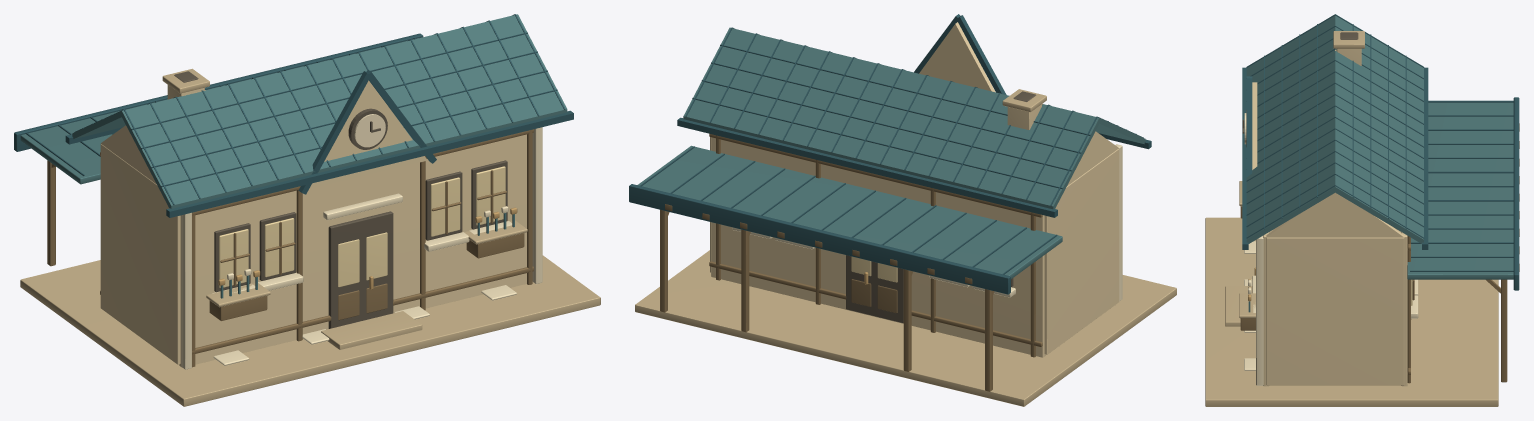
The model's file is station.glb.
3 renders of one model, left to right at view 1: azimuth 30°, elevation 25°; view 2: azimuth 150°, elevation 25°; view 3: azimuth 270°, elevation 25°, orthographic. The views are drawn at different scales.
Visible parts, largest first — view 1: Roof_sheet, Wall_Cardstock, Foundation, End_wall, Door_frame, Eave_cut_edge, Canopy_sheet, Clock_gable, Entry_step, Canopy_fascia, Timber_cross, Facade_corner_trim (+35 smaller); view 2: Roof_sheet.001, Foundation, Canopy_sheet, Wall_Cardstock.001, End_wall, Canopy_fascia, Eave_cut_edge.001, Clock_gable, Door_frame.001, Timber_cross.002, Timber_cross.003, End_gable (+16 smaller); view 3: Foundation, End_wall.001, Canopy_sheet, Roof_sheet.001, Roof_sheet, End_gable.001, Canopy_fascia, Facade_corner_trim.001, Eave_cut_edge.001, Eave_cut_edge, Canopy_post.003, Entry_step (+12 smaller).
Part boxes in pixels (box(x1,y1,x2,y2)): Roof_sheet: box(121, 14, 567, 208); Wall_Cardstock: box(179, 134, 526, 367); Foundation: box(20, 255, 600, 406); End_wall: box(100, 144, 180, 364); Door_frame: box(328, 211, 393, 328); Eave_cut_edge: box(166, 110, 573, 217); Canopy_sheet: box(20, 38, 418, 184); Clock_gable: box(309, 80, 427, 189); Entry_step: box(321, 311, 422, 349); Canopy_fascia: box(14, 33, 423, 151); Timber_cross: box(192, 266, 533, 354); Facade_corner_trim: box(181, 212, 191, 369); Roof_sheet.001: box(683, 27, 1099, 209); Foundation: box(635, 250, 1176, 406); Canopy_sheet: box(637, 145, 1062, 278); Wall_Cardstock.001: box(711, 137, 1045, 357); End_wall: box(1044, 149, 1119, 354); Canopy_fascia: box(629, 184, 1010, 294); Eave_cut_edge.001: box(677, 117, 1057, 217); Clock_gable: box(919, 22, 995, 92); Door_frame.001: box(846, 255, 903, 323); Timber_cross.002: box(709, 261, 1042, 347); Timber_cross.003: box(709, 133, 1042, 217); End_gable: box(1067, 131, 1118, 186); Foundation: box(1205, 217, 1498, 406); End_wall.001: box(1266, 237, 1404, 385); Canopy_sheet: box(1407, 100, 1513, 279); Roof_sheet.001: box(1335, 14, 1423, 243); Roof_sheet: box(1246, 14, 1335, 243); End_gable.001: box(1266, 192, 1404, 237); Canopy_fascia: box(1513, 97, 1519, 290); Facade_corner_trim.001: box(1256, 236, 1263, 385); Eave_cut_edge.001: box(1422, 67, 1428, 249); Eave_cut_edge: box(1242, 67, 1248, 249); Canopy_post.003: box(1501, 279, 1507, 382); Entry_step: box(1225, 286, 1252, 326).
Size of the model in its own units: 3.12 by 1.91 by 2.27.
